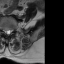CCS_normal: (7, 27, 9, 37)
LFS_normal: (11, 26, 14, 33)
LLS_normal: (9, 27, 11, 36)
RFS_normal: (2, 26, 5, 33)
RLS_normal: (5, 26, 7, 36)
